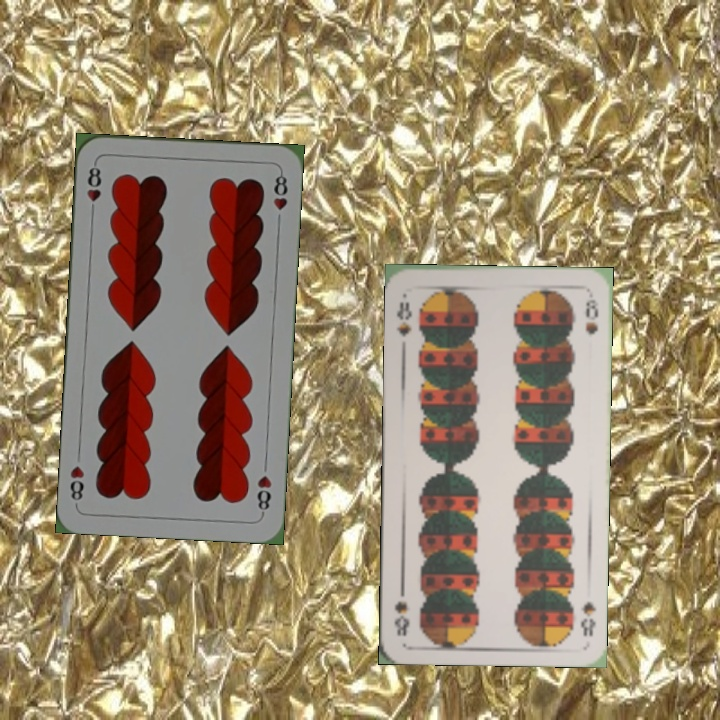H8: (83, 159, 104, 218), (253, 471, 274, 517)
S8: (392, 298, 414, 339), (577, 597, 598, 639)
